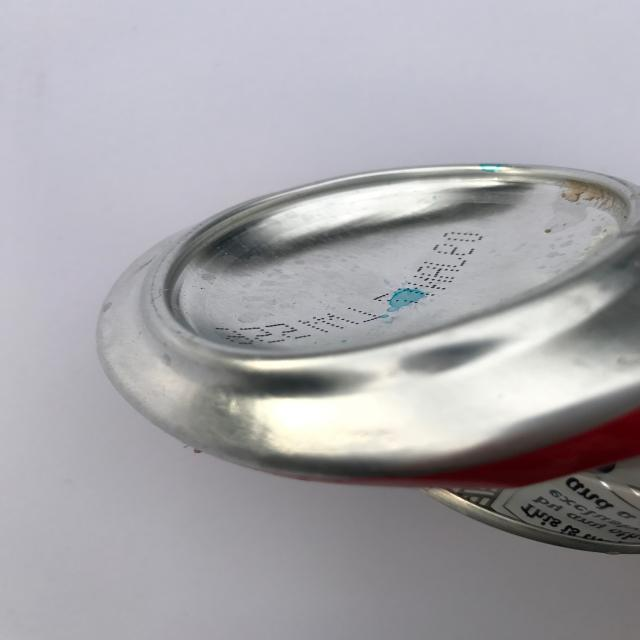metal: (94, 161, 640, 554)
